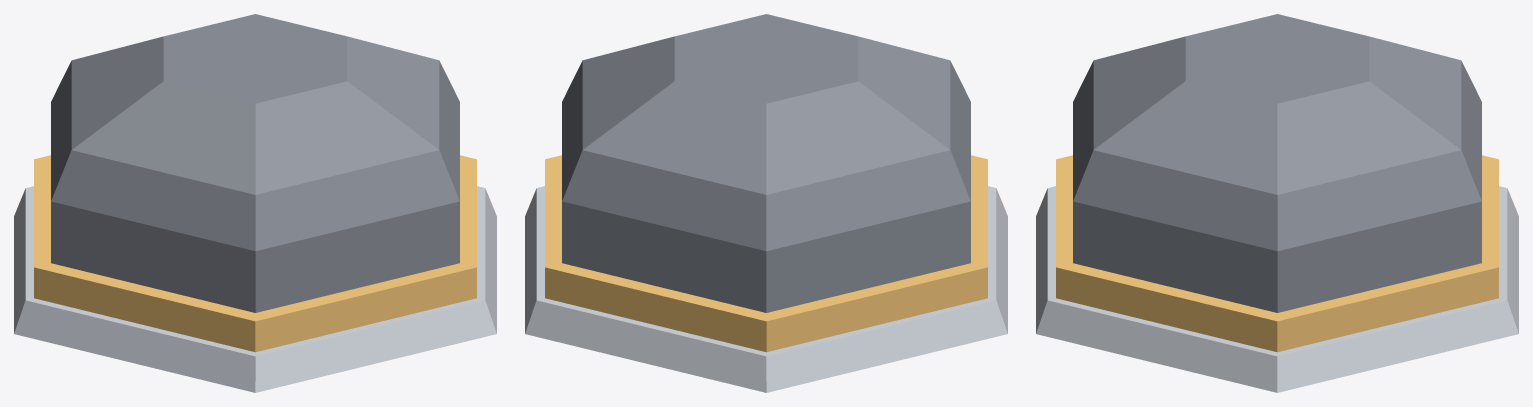
Rendered from hangar_roundGlass.glb.
The picture shows the model from 3 angles, left to right: view 1: azimuth 30°, elevation 25°; view 2: azimuth 150°, elevation 25°; view 3: azimuth 270°, elevation 25°; orthographic projection.
Visible parts, largest first — view 1: hangar_roundGlass; view 2: hangar_roundGlass; view 3: hangar_roundGlass.
Boxes of the visible parts, left/top/right/bottom form: hangar_roundGlass: left=14, top=14, right=496, bottom=392; hangar_roundGlass: left=525, top=14, right=1007, bottom=392; hangar_roundGlass: left=1036, top=14, right=1518, bottom=392.
Bounding box in the file's own units: 3.27 × 1.4 × 2.83.
